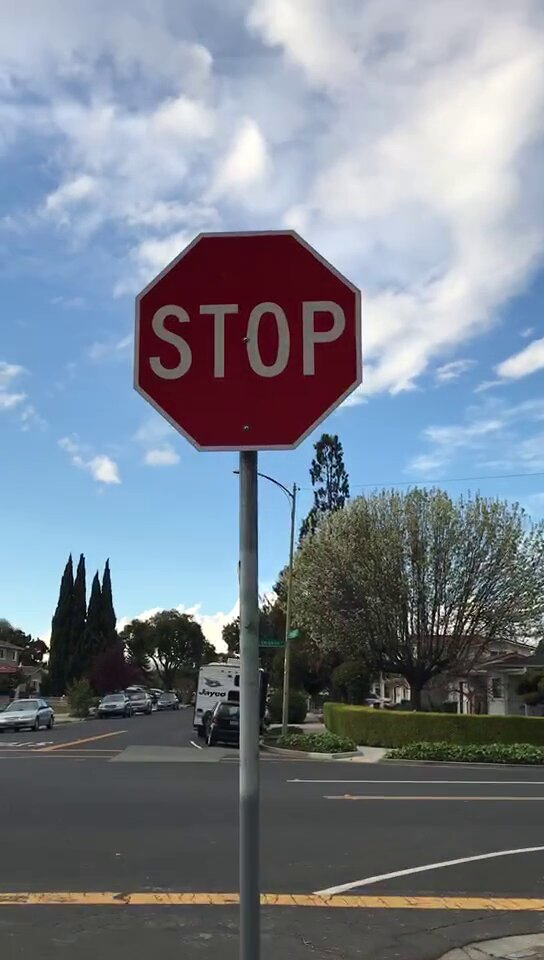stop_sign: (136, 234, 362, 448)
